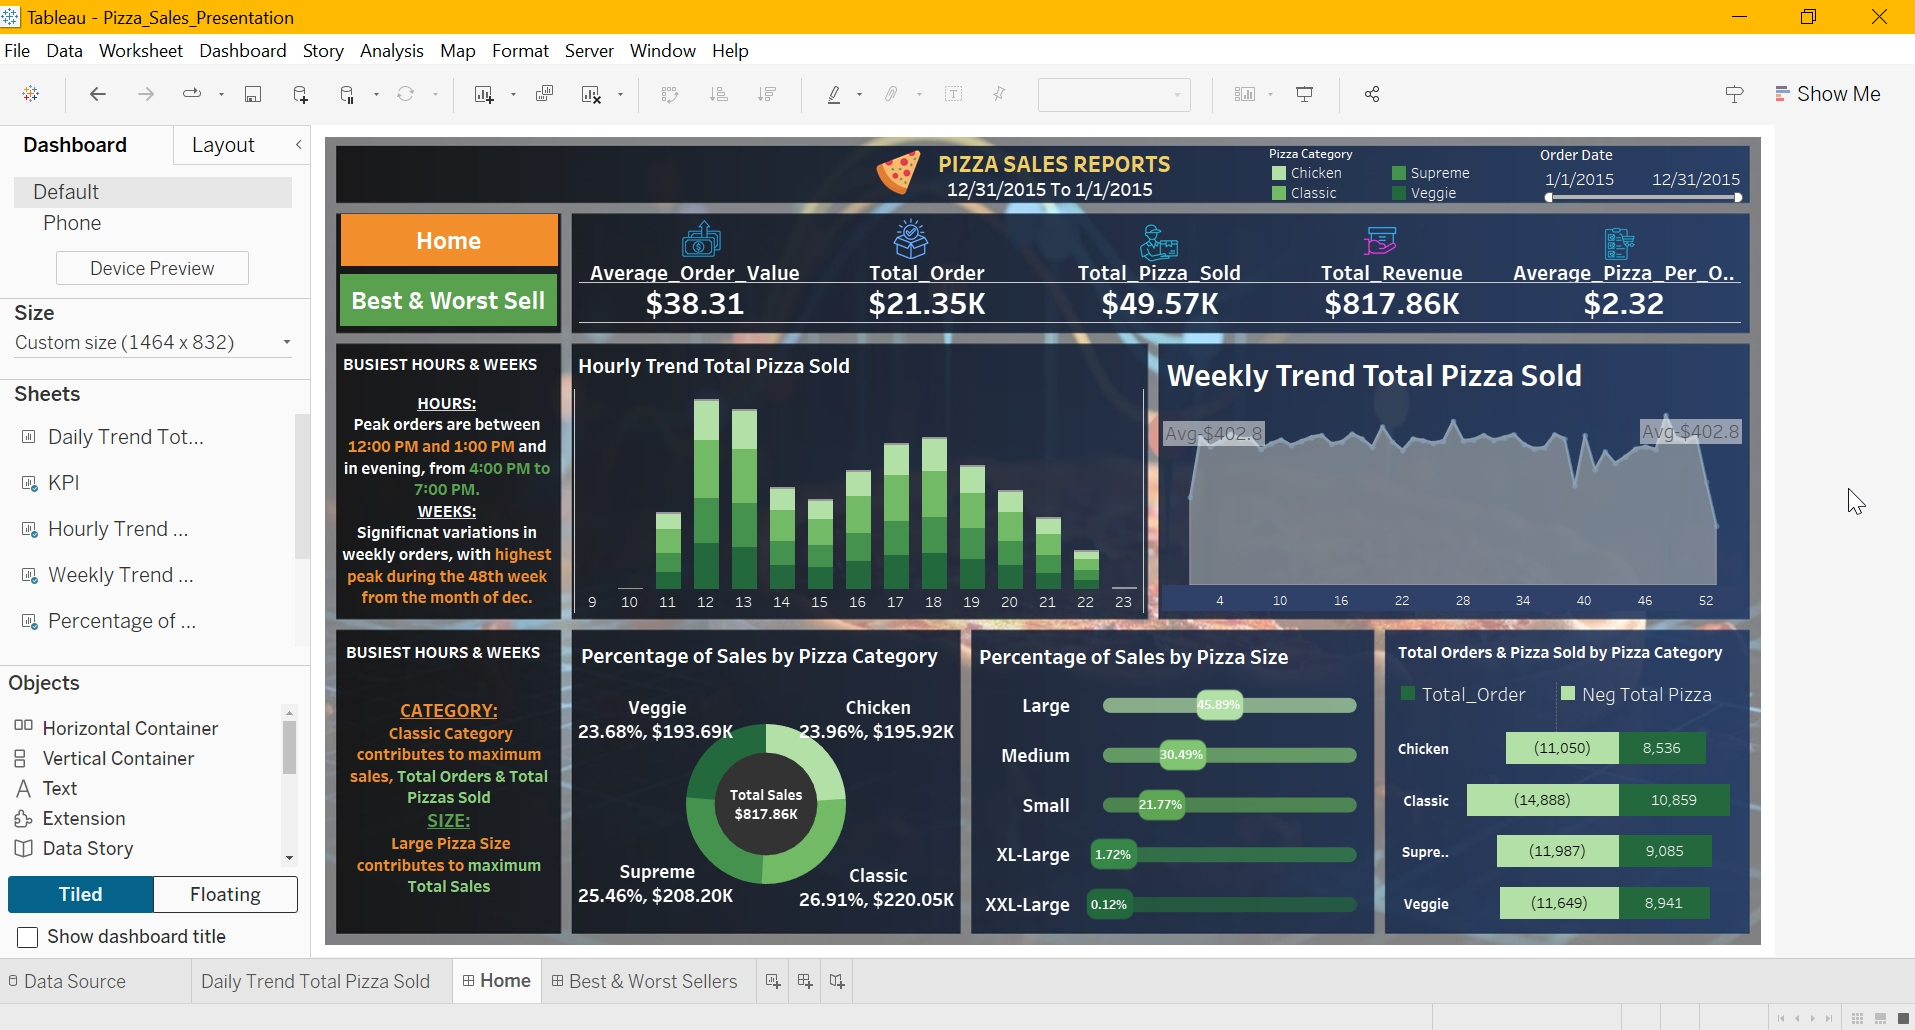

What the dashboard file says about the page in this screenshot:
{"tool":"tableau","page":{"name":"Home","canvas":[1464,832],"ordinal":1},"visuals":[{"type":"image","param":"C:/Users/Lost Ever/Downloads/tableau project files and resources/Tableau & SQL P","box":[8,8,1448,816]},{"type":"legend","title":"Hourly Trend Total Pizza Sold","param":"[federated.08mj7460sib98g1ell9rb112kt8u].[none:pizza_category:nk]","box":[958,20,249,58]},{"type":"filter","title":"Hourly Trend Total Pizza Sold","param":"[federated.08mj7460sib98g1ell9rb112kt8u].[none:order_date:qk]","box":[1229,20,207,60]},{"type":"text","box":[623,23,241,30]},{"type":"image","param":"C:/Users/Lost Ever/Downloads/tableau project files and resources/Tableau & SQL P","box":[564,24,79,46]},{"type":"worksheet","title":"Years","mark":"Automatic","box":[615,49,247,30]},{"type":"dashboard-object","box":[30,89,217,52]},{"type":"image","param":"C:/Users/Lost Ever/Downloads/tableau project files and resources/Tableau & SQL P","box":[368,91,46,44]},{"type":"image","param":"C:/Users/Lost Ever/Downloads/tableau project files and resources/Tableau & SQL P","box":[579,93,51,41]},{"type":"image","param":"C:/Users/Lost Ever/Downloads/tableau project files and resources/Tableau & SQL P","box":[1050,97,47,37]},{"type":"image","param":"C:/Users/Lost Ever/Downloads/tableau project files and resources/Tableau & SQL P","box":[828,98,61,39]},{"type":"image","param":"C:/Users/Lost Ever/Downloads/tableau project files and resources/Tableau & SQL P","box":[1292,102,63,33]},{"type":"worksheet","title":"KPI","mark":"Automatic","box":[268,137,1162,61]},{"type":"dashboard-object","box":[29,149,217,52]},{"type":"worksheet","title":"Hourly Trend Total Pizza Sold","mark":"Bar","rows":["Calculation_68116976624730113","Calculation_68116976624730113"],"cols":["order_time"],"box":[263,222,570,267]},{"type":"text","box":[28,224,215,30]},{"type":"worksheet","title":"Weekly Trend Total Pizza Sold","mark":"Line","rows":["Calculation_68116976624898050","Calculation_68116976624898050"],"cols":["order_date"],"box":[851,224,582,262]},{"type":"text","box":[27,264,218,225]},{"type":"text","box":[31,512,215,30]},{"type":"worksheet","title":"Percentage of Sales by Pizza Category","mark":"Pie","rows":["Calculation_143270795568267268","Calculation_143270795568267268"],"box":[266,512,378,292]},{"type":"text","box":[1083,512,336,30]},{"type":"worksheet","title":"Percentage of Sales by Pizza Size","mark":"Line","rows":["pizza_size"],"box":[664,513,394,291]},{"type":"text","box":[29,544,218,260]},{"type":"legend","title":"Total Orders & Pizza by Pizza Category","param":"[federated.08mj7460sib98g1ell9rb112kt8u].[:Measure Names]","box":[1085,556,337,52]},{"type":"worksheet","title":"Total Orders & Pizza by Pizza Category","mark":"Automatic","rows":["pizza_category"],"box":[1083,597,349,207]}]}

Visuals, with their boxes on the page's 1464x832 design canvas (x1, y1, x2, y2). These are canvas units, not pixel positions in the 1915x1030 screenshot, which may show the page scaled, cropped or inside an application window:
image: 8/8/1456/824
"Hourly Trend Total Pizza Sold" legend: 958/20/1207/78
"Hourly Trend Total Pizza Sold" filter: 1229/20/1436/80
text: 623/23/864/53
image: 564/24/643/70
"Years" worksheet: 615/49/862/79
dashboard-object: 30/89/247/141
image: 368/91/414/135
image: 579/93/630/134
image: 1050/97/1097/134
image: 828/98/889/137
image: 1292/102/1355/135
"KPI" worksheet: 268/137/1430/198
dashboard-object: 29/149/246/201
"Hourly Trend Total Pizza Sold" worksheet (Bar marks): 263/222/833/489
text: 28/224/243/254
"Weekly Trend Total Pizza Sold" worksheet (Line marks): 851/224/1433/486
text: 27/264/245/489
text: 31/512/246/542
"Percentage of Sales by Pizza Category" worksheet (Pie marks): 266/512/644/804
text: 1083/512/1419/542
"Percentage of Sales by Pizza Size" worksheet (Line marks): 664/513/1058/804
text: 29/544/247/804
"Total Orders & Pizza by Pizza Category" legend: 1085/556/1422/608
"Total Orders & Pizza by Pizza Category" worksheet: 1083/597/1432/804
